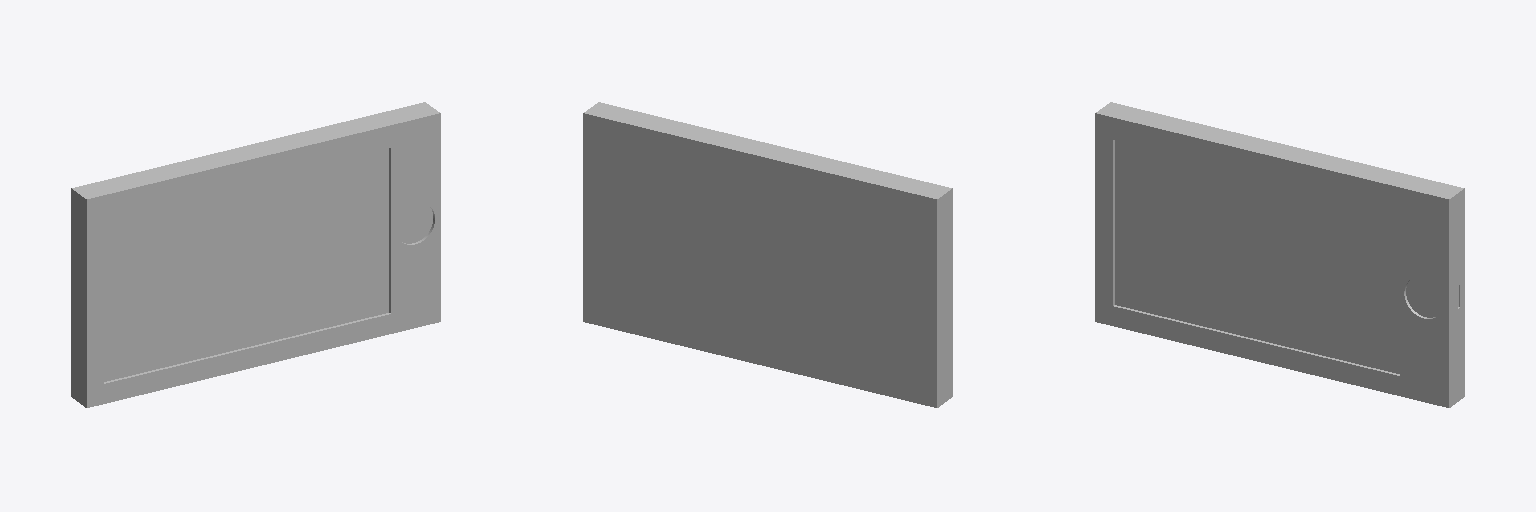
Rendered from phone.obj.
3 views of the same model, side by side, from view 1: azimuth 30°, elevation 25°; view 2: azimuth 150°, elevation 25°; view 3: azimuth 330°, elevation 25° (orthographic).
Parts seen in each view (by area): view 1: Object.2; view 2: Object.2; view 3: Object.2.
Part boxes in pixels (bbox=[...]): Object.2: bbox=[71, 102, 440, 407]; Object.2: bbox=[583, 102, 952, 407]; Object.2: bbox=[1095, 102, 1464, 407].
Bounding box in the file's own units: 23.29 × 13.23 × 1.74.